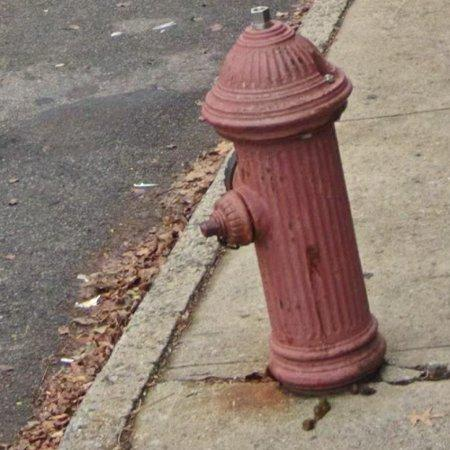a fire hydrant: (201, 6, 387, 392)
